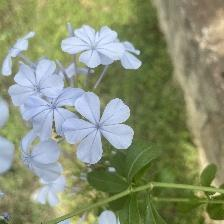chitrak: (60, 92, 138, 164), (63, 26, 123, 70), (10, 60, 64, 105), (19, 128, 63, 183)
